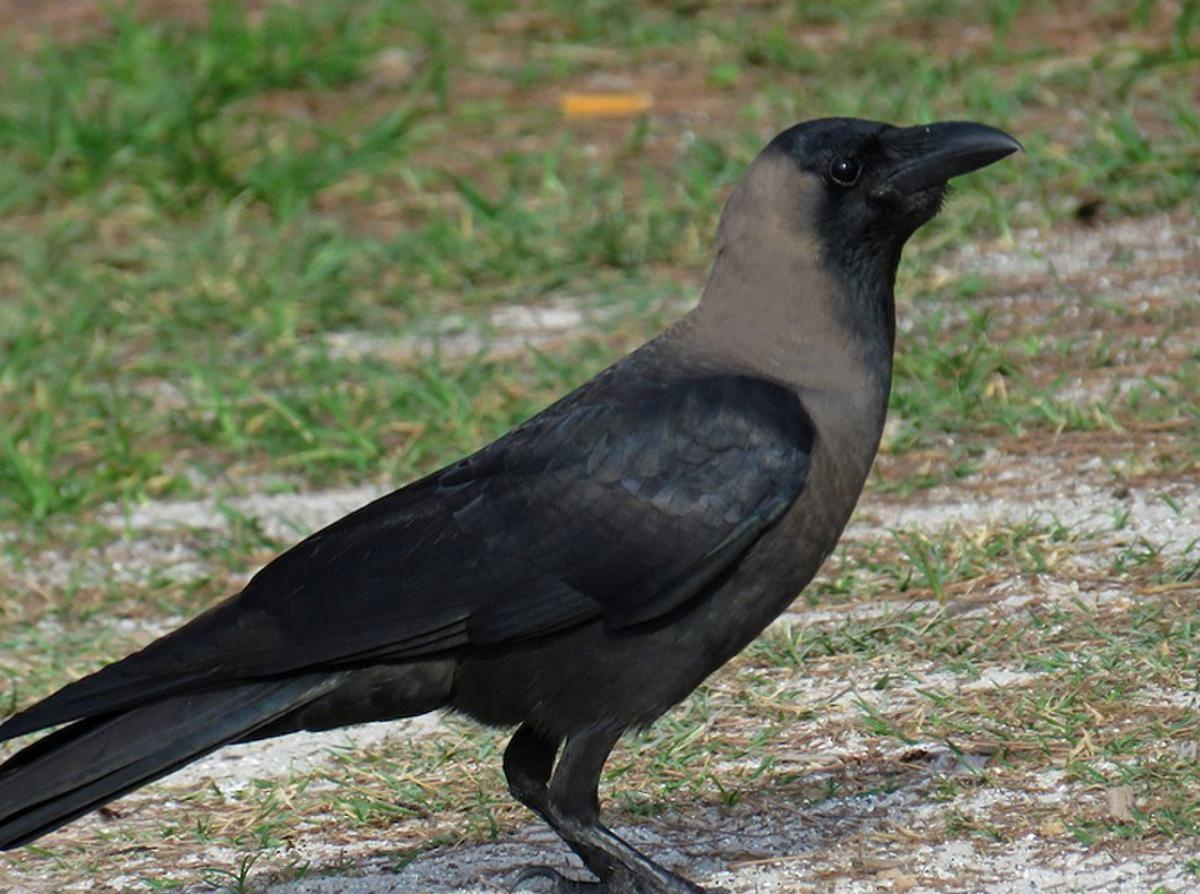crow: (1, 96, 1037, 885)
